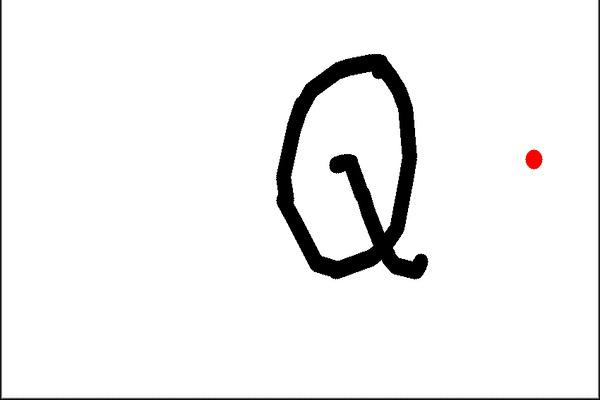Q: (251, 32, 438, 291)
